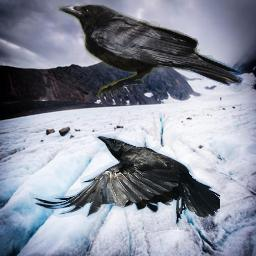Crow: (29, 134, 220, 227), (58, 3, 244, 98)
